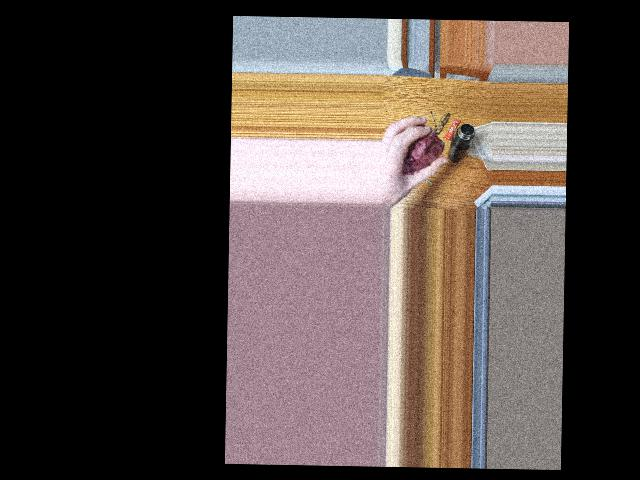onion: (400, 124, 440, 171)
